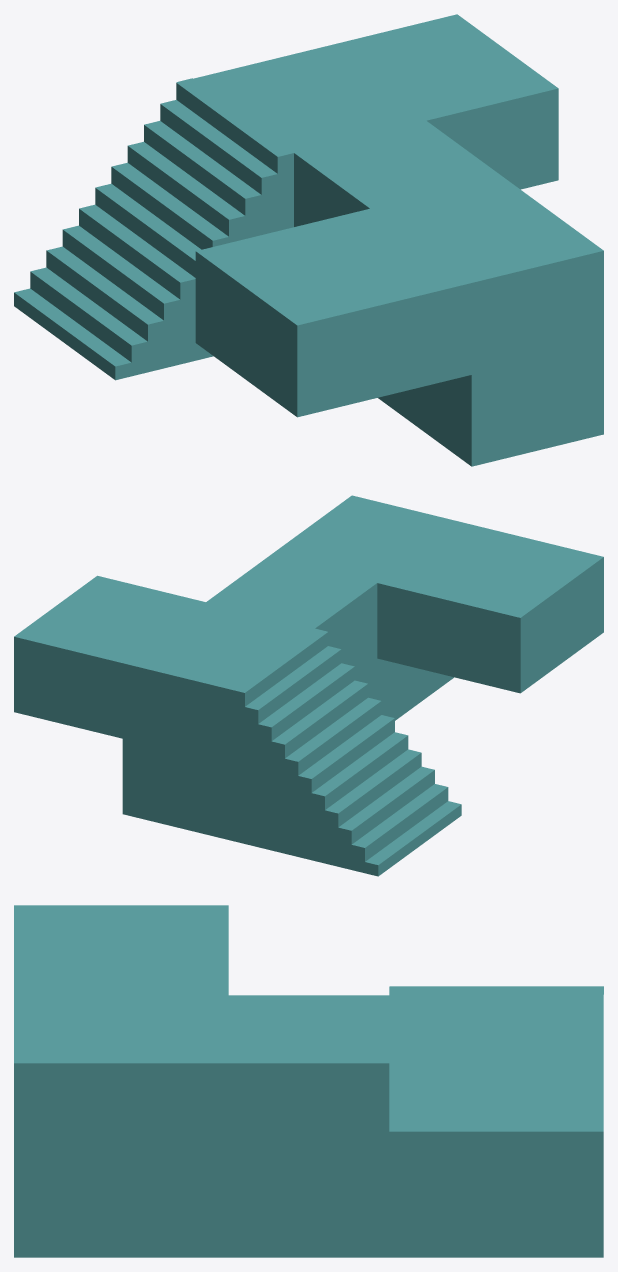
The model's file is stairway_03.fbx.
3 views of the same model, one above another, from view 1: azimuth 30°, elevation 25°; view 2: azimuth 150°, elevation 25°; view 3: azimuth 270°, elevation 25° (orthographic). The views are drawn at different scales.
Visible parts, largest first — view 1: stairway_03; view 2: stairway_03; view 3: stairway_03.
Boxes of the visible parts, <box> form: stairway_03: <box>14,14,603,466</box>; stairway_03: <box>14,495,603,876</box>; stairway_03: <box>14,905,603,1257</box>.
Bounding box in the file's own units: 10.1 × 4.01 × 11.01.
